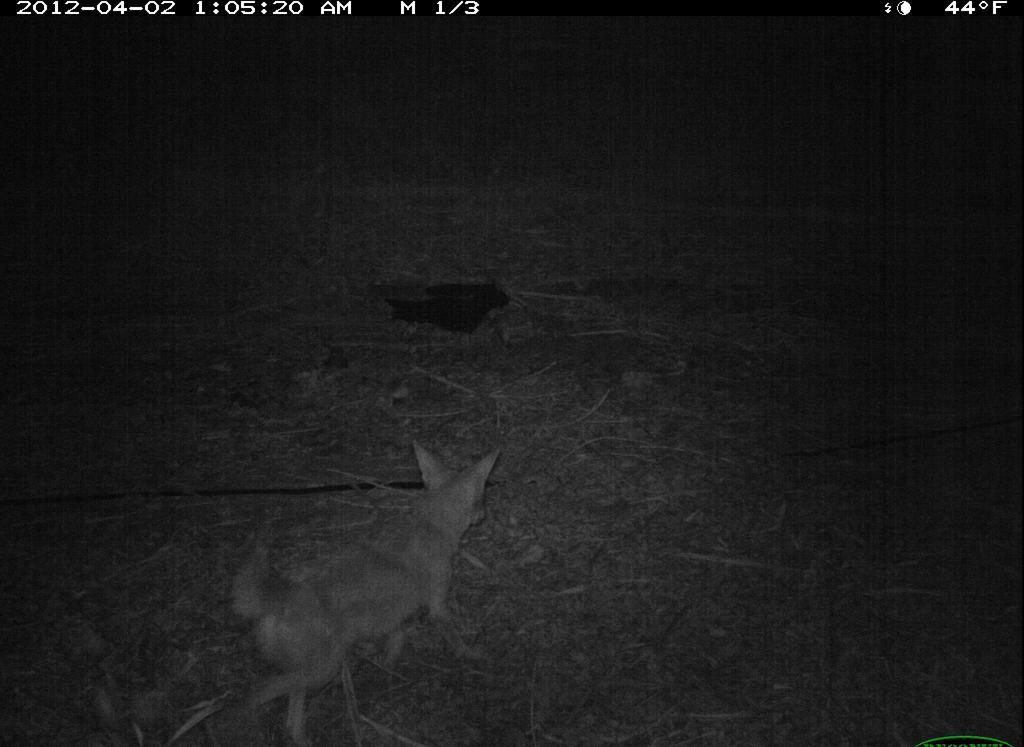coyote: (228, 436, 509, 739)
